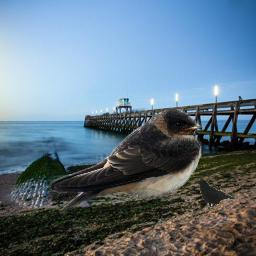Crow: (193, 178, 235, 209)
Swallow: (50, 108, 205, 214)
